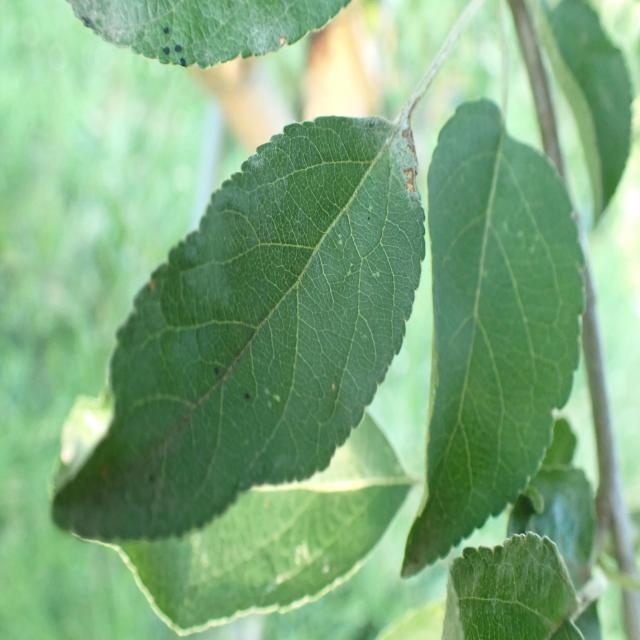Powdery_mildew: (72, 96, 420, 557), (61, 0, 392, 77), (400, 520, 581, 640)
